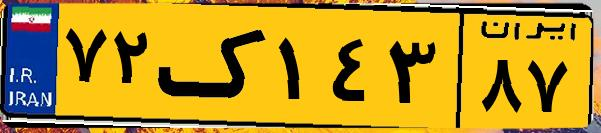1: (270, 28, 330, 110)
2: (110, 28, 158, 98)
3: (385, 28, 445, 110)
4: (330, 28, 385, 110)
7: (57, 26, 110, 100), (525, 38, 570, 115)
8: (475, 38, 525, 113)
ک: (158, 12, 270, 120)
